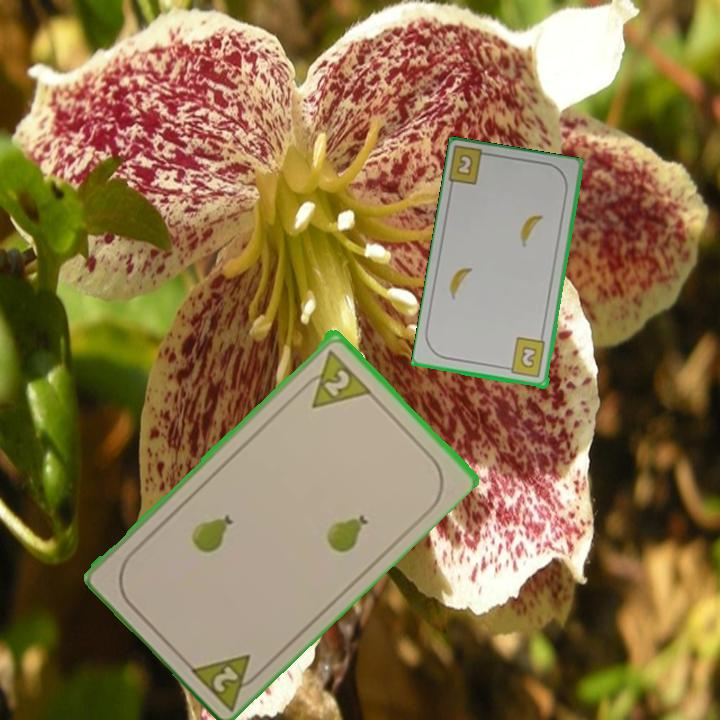2b: (502, 334, 549, 380), (453, 151, 476, 179)
2p: (184, 649, 268, 712), (294, 345, 373, 411)
